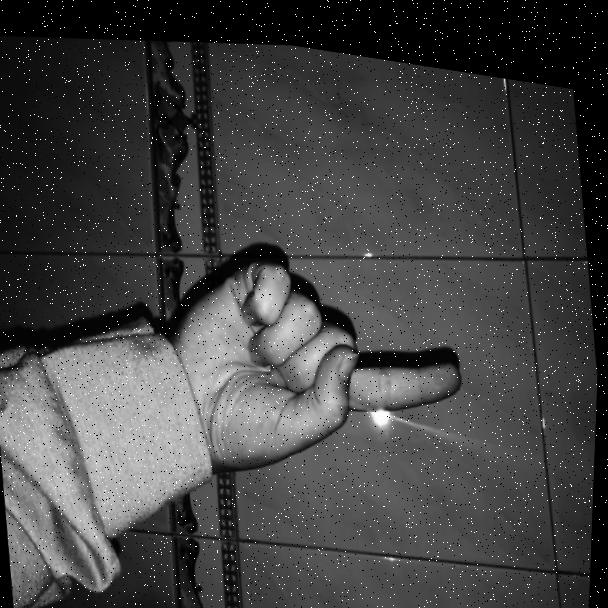one: (152, 201, 480, 492)
